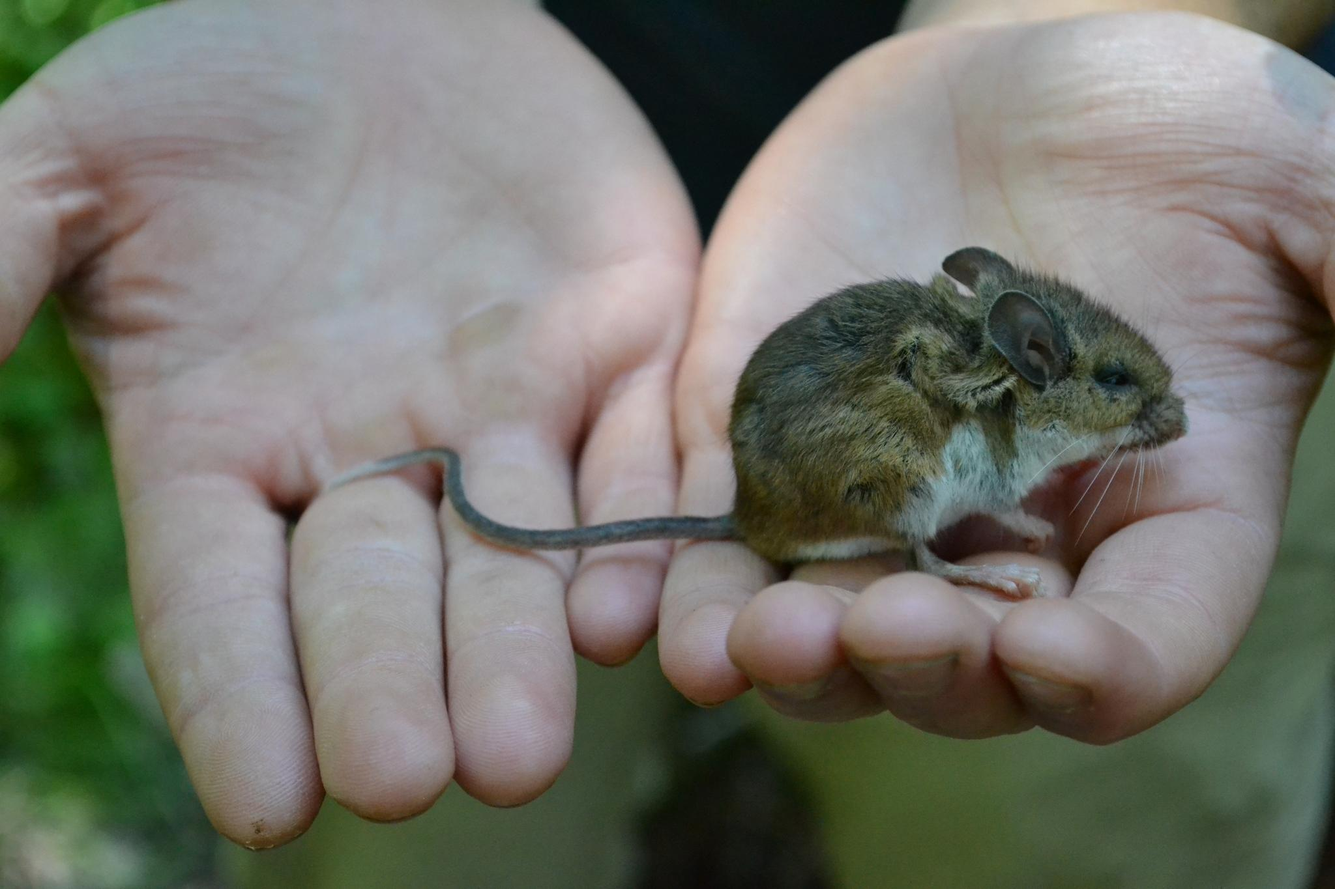rat: (328, 249, 1189, 600)
